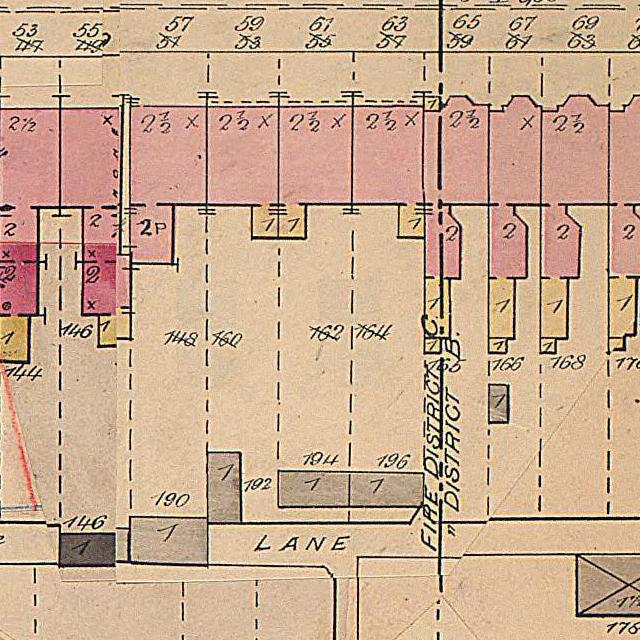building-footprints: (60, 109, 131, 347), (540, 96, 609, 339), (424, 96, 489, 338), (0, 109, 60, 361), (489, 96, 542, 338), (130, 106, 207, 264), (278, 106, 353, 238), (352, 106, 424, 238), (207, 107, 279, 239), (609, 96, 640, 338), (278, 471, 423, 507), (576, 554, 640, 616), (130, 517, 208, 565), (207, 452, 242, 523), (60, 534, 129, 565), (489, 385, 508, 423), (488, 338, 507, 353), (425, 338, 441, 353), (540, 338, 556, 353), (609, 338, 625, 349)
